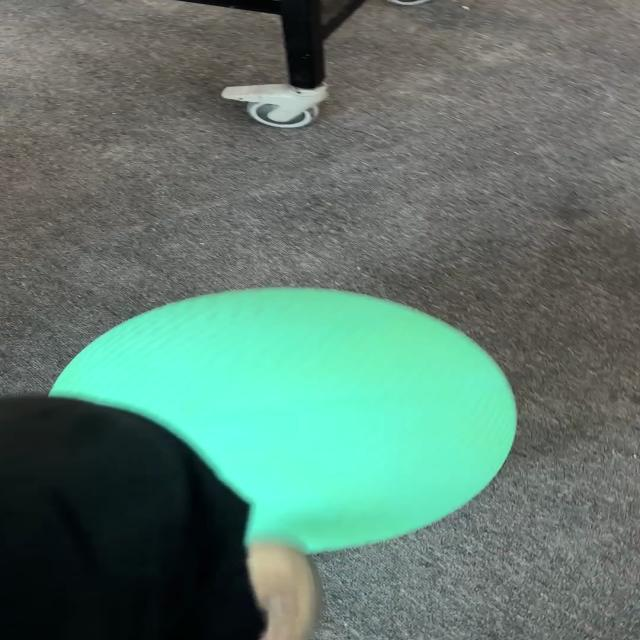Algae: (46, 286, 519, 555)
